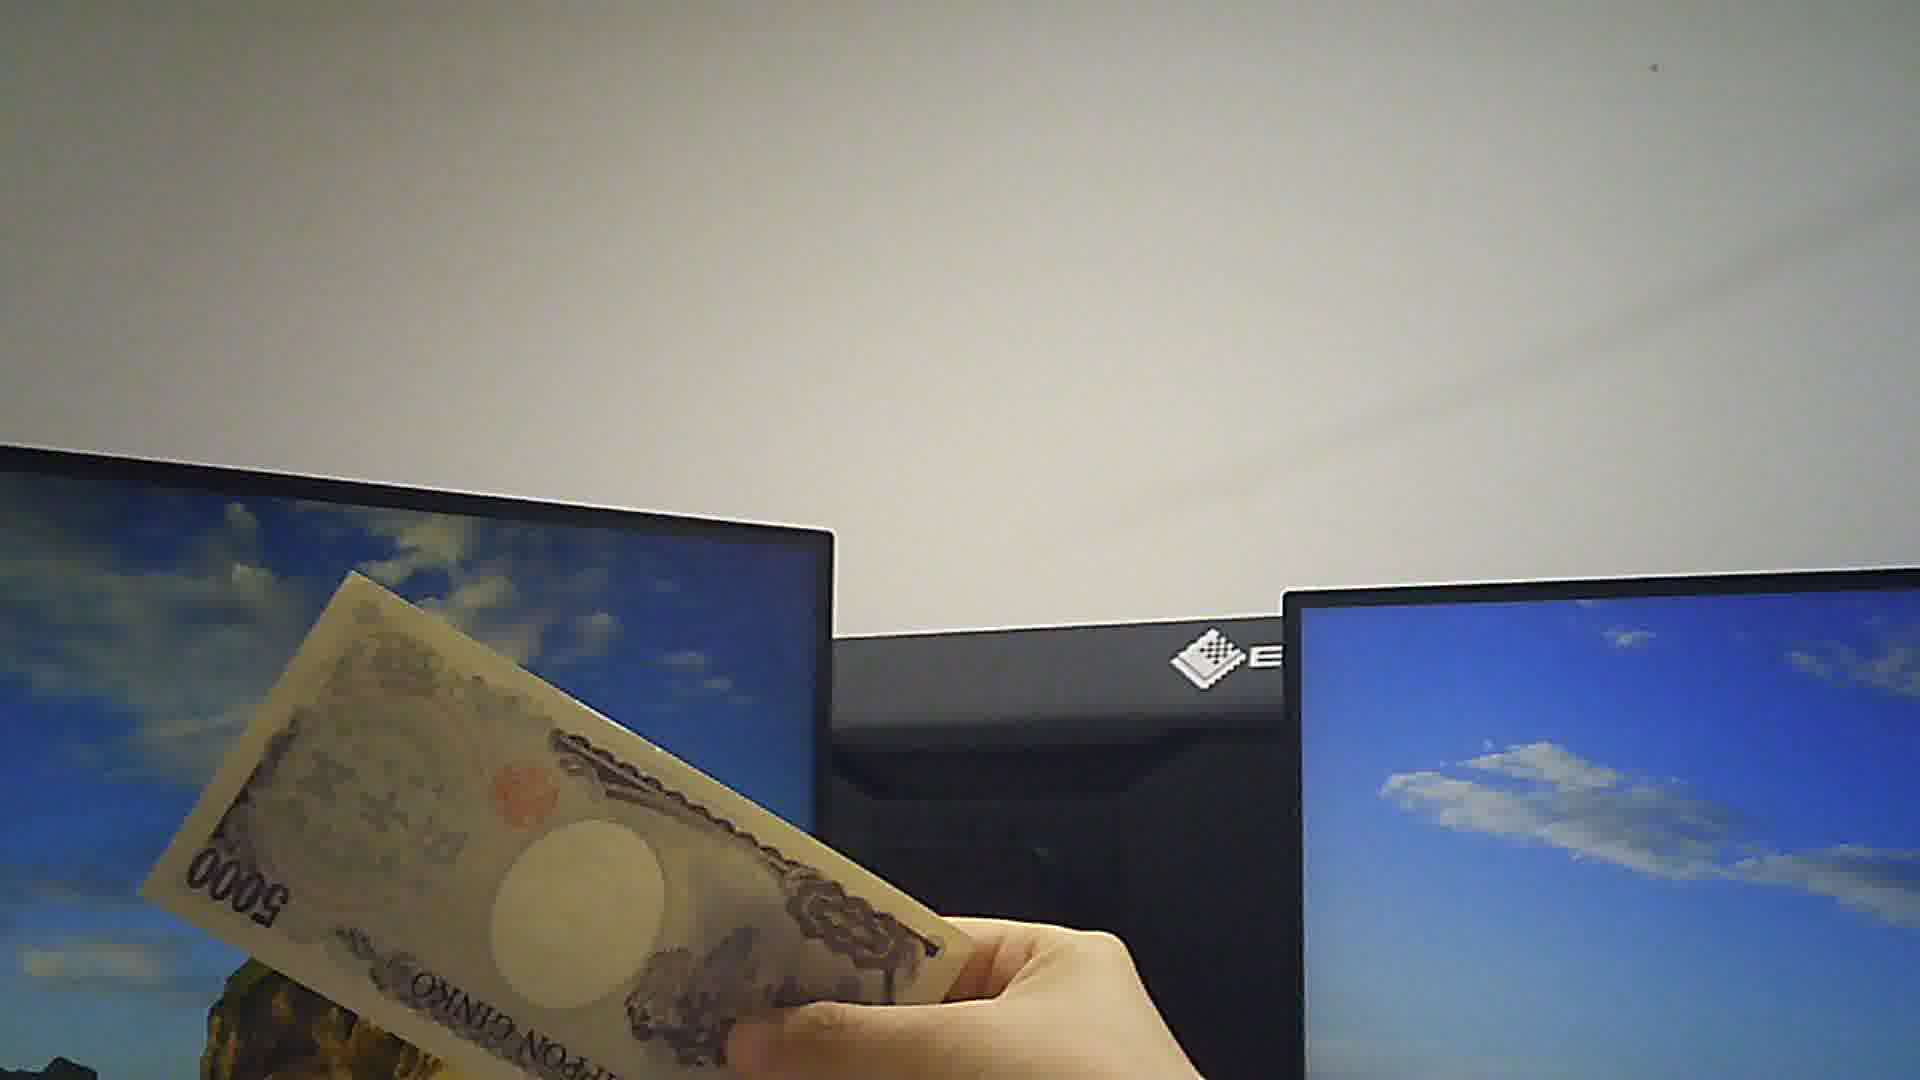5,000 Yen: (148, 580, 957, 1079)
